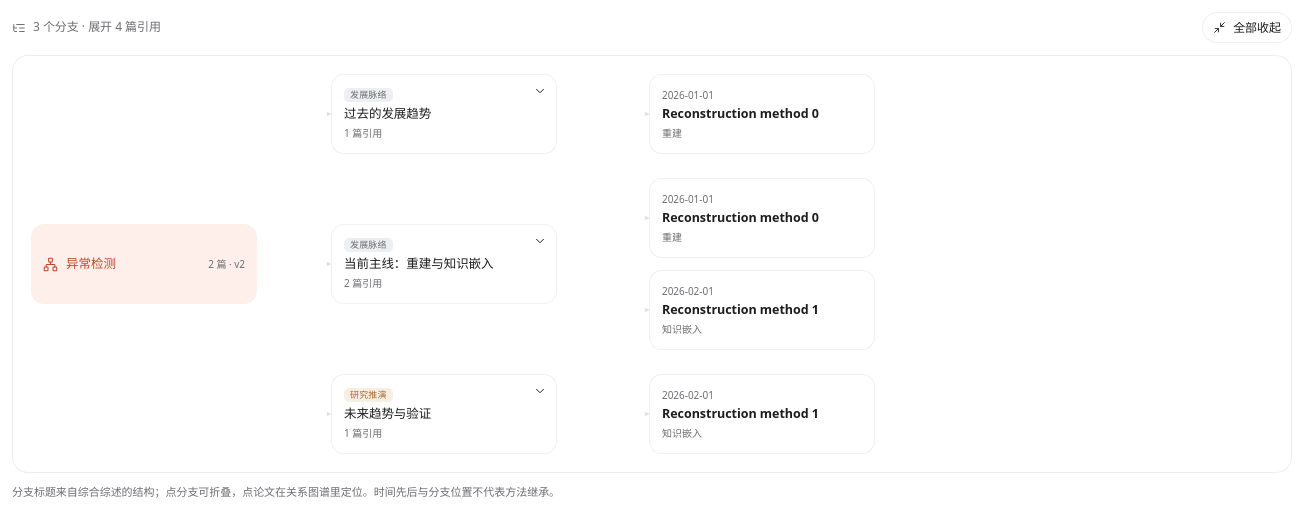
Scenario: field review mind map › collapses a branch and hides its papers
The image size is (1304, 515).
Click the button with class "field-mindmap-section" showing "发展脉络 当前主线：重建与知识嵌入 2 篇引用": (444, 264) [331,224,557,304]
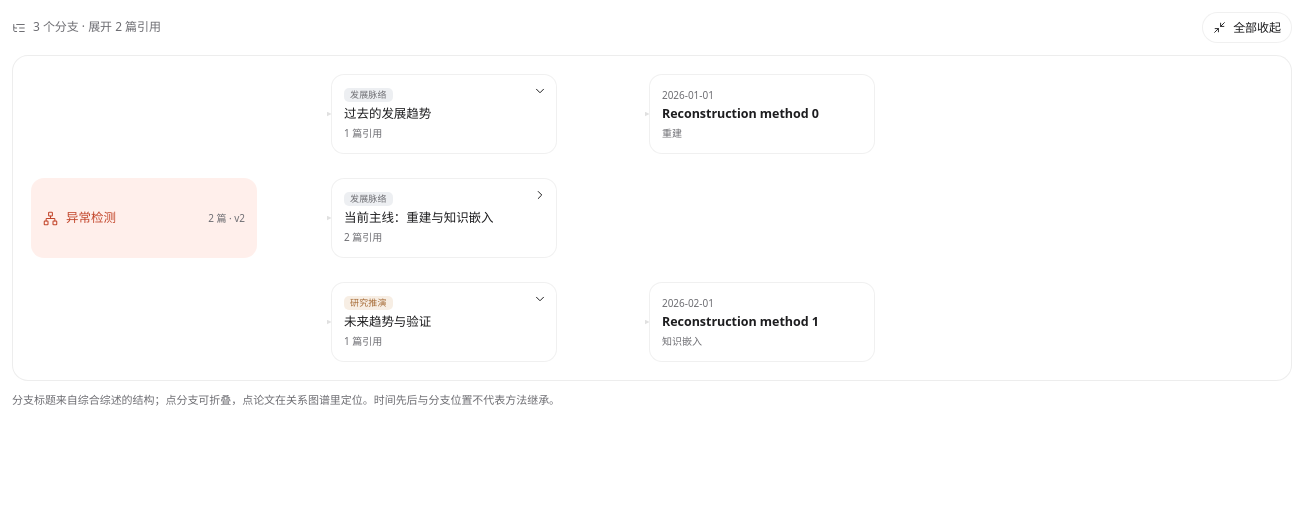
expect the button with class "field-mindmap-section" is collapsed: met, box [331,178,557,258]
expect the number of buttons with class "field-mindmap-paper" is 2: met, box [649,74,875,154]; [649,282,875,362]
Click the button "全部收起": (1247, 28) [1202,12,1292,43]
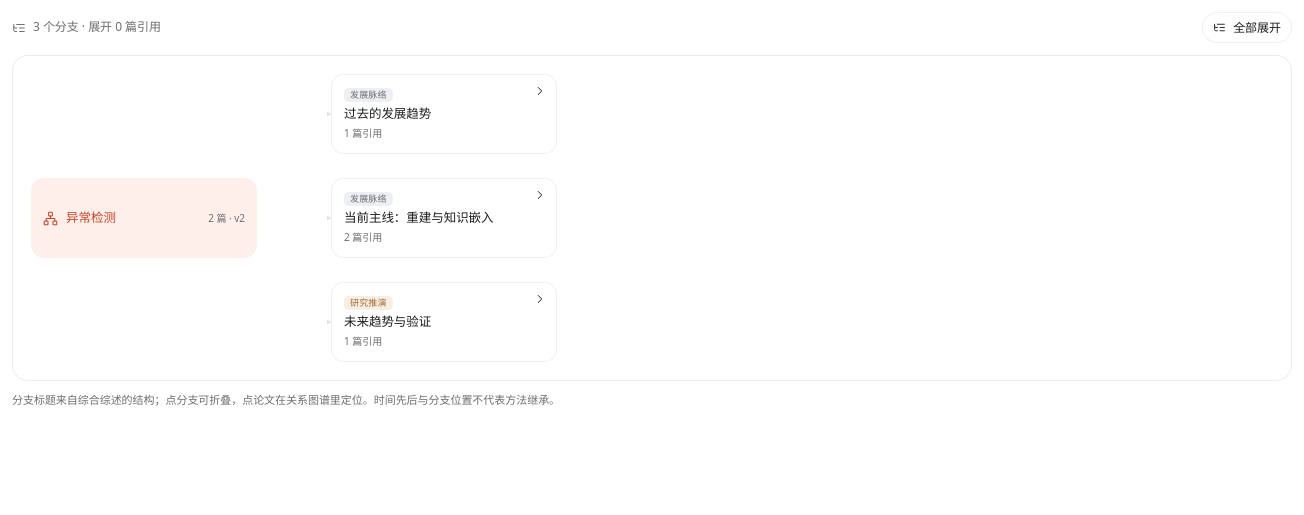
expect no buttons with class "field-mindmap-paper" are shown: met
